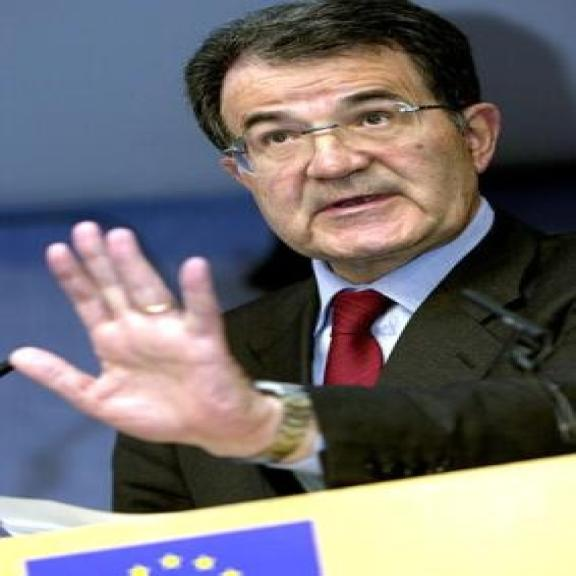face: (216, 57, 512, 264)
